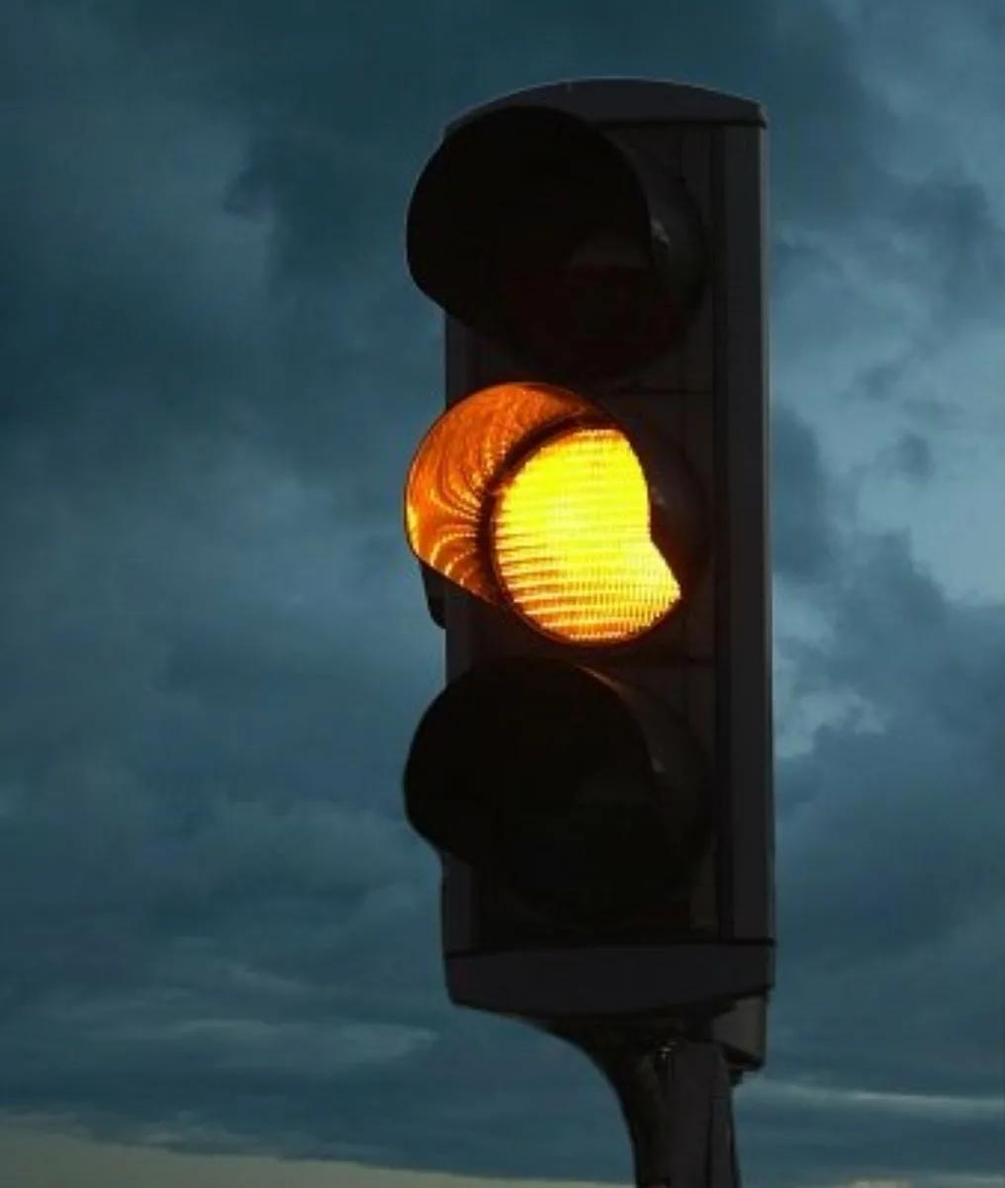traffic light: (402, 87, 757, 945)
